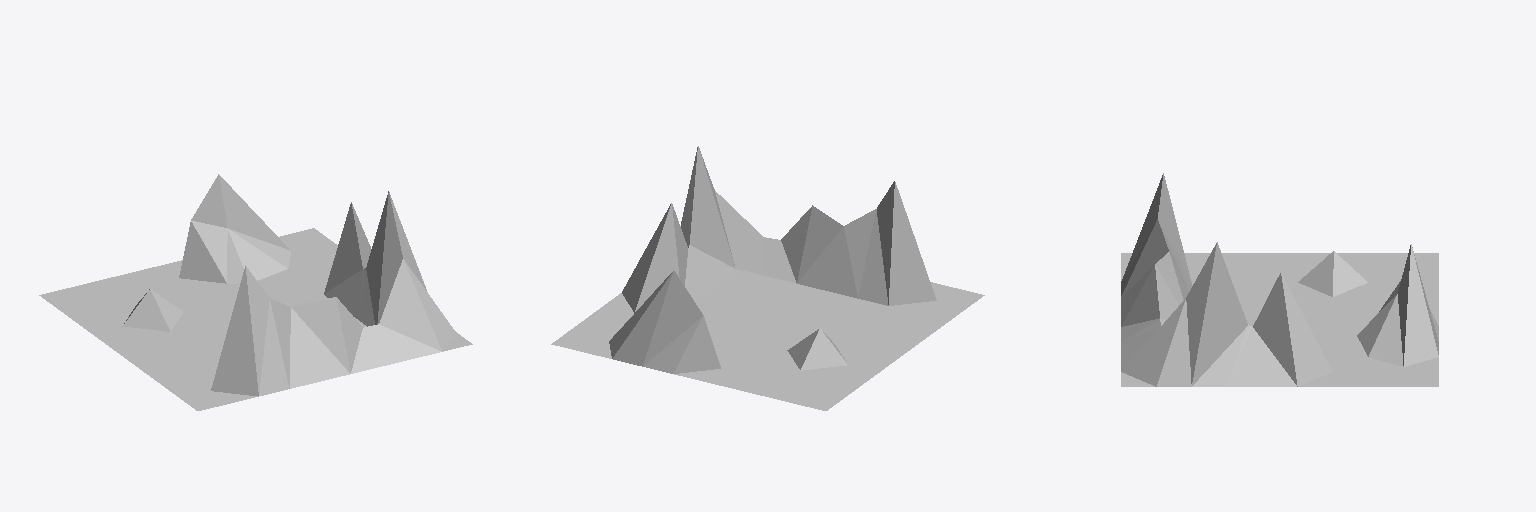
Rendered from snow_mountains_obj.obj.
3 renders of one model, left to right at view 1: azimuth 30°, elevation 25°; view 2: azimuth 150°, elevation 25°; view 3: azimuth 270°, elevation 25°, orthographic.
Visible parts, largest first — view 1: Grid; view 2: Grid; view 3: Grid.
Part boxes in pixels (x1,y1,x2,y2): Grid: (39,174,472,410); Grid: (551,146,984,410); Grid: (1121,173,1438,386).
Bounding box in the file's own units: 400 × 177 × 400.